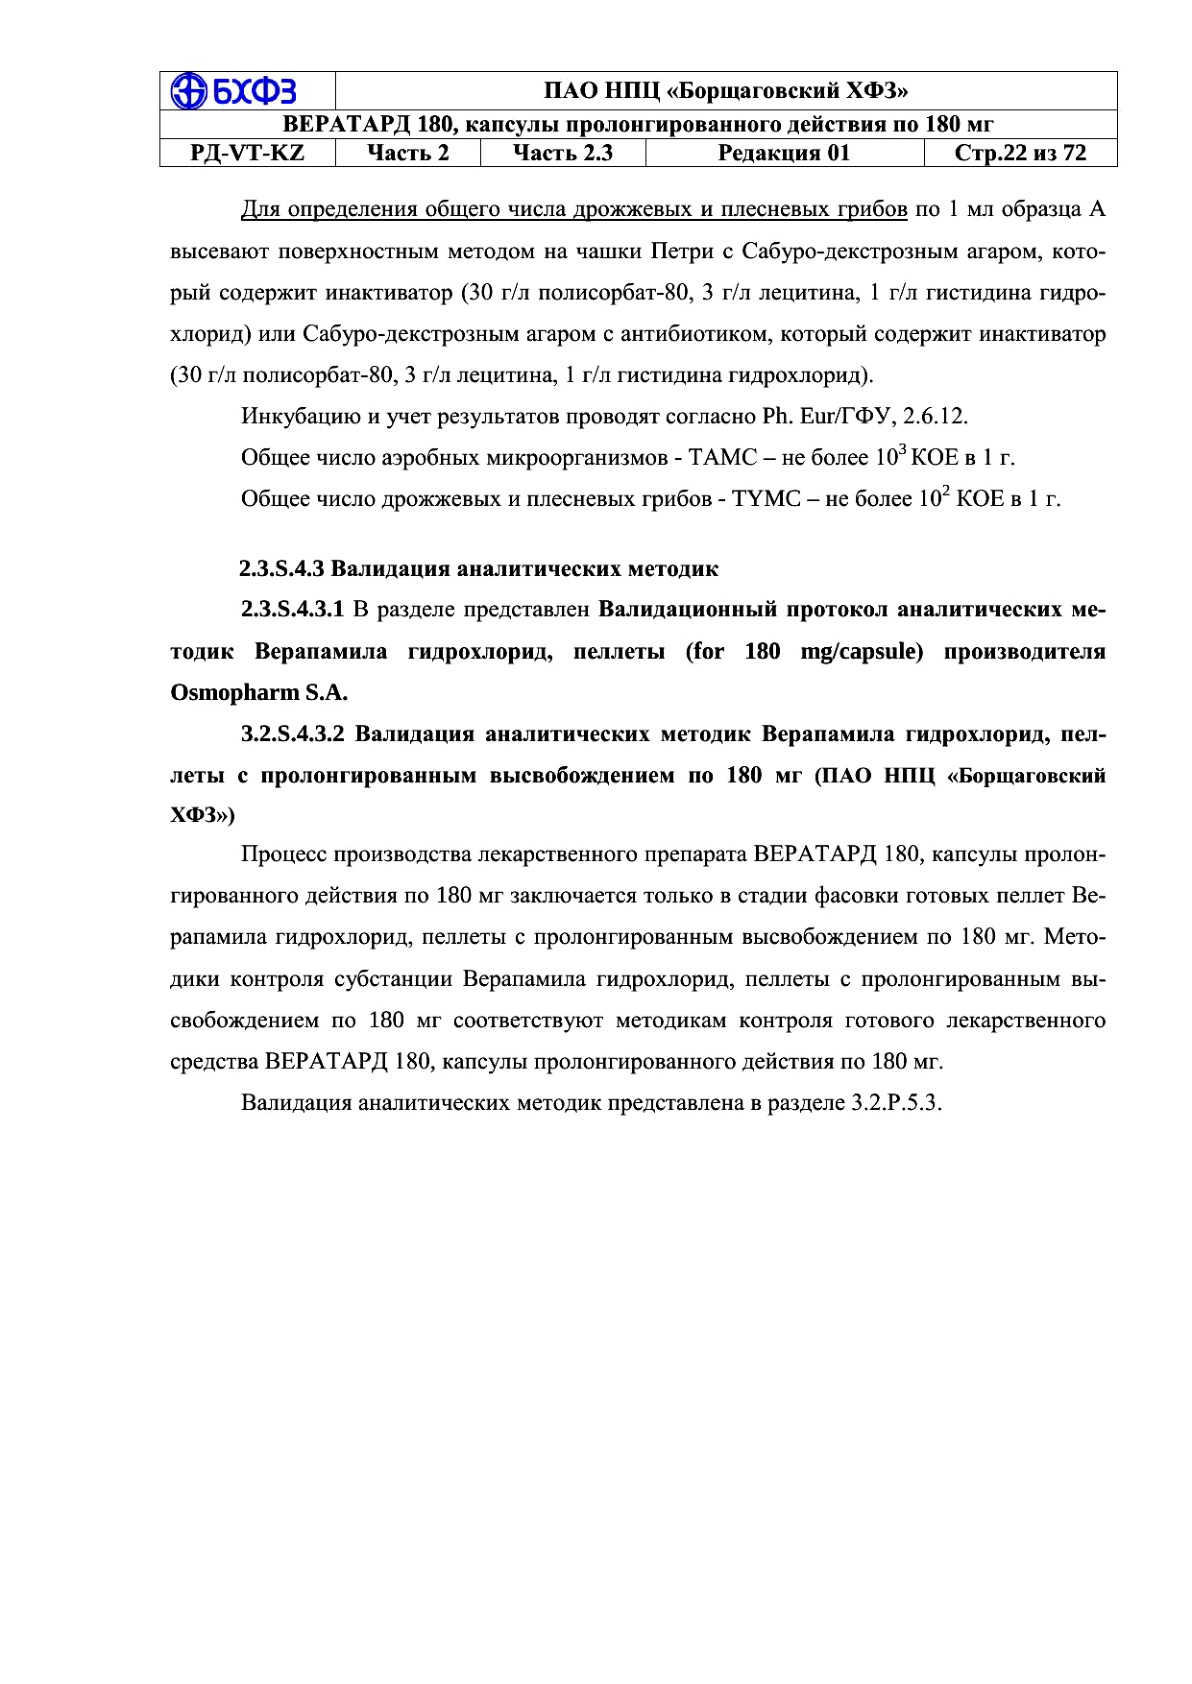merged_cells: (157, 68, 1118, 168)
